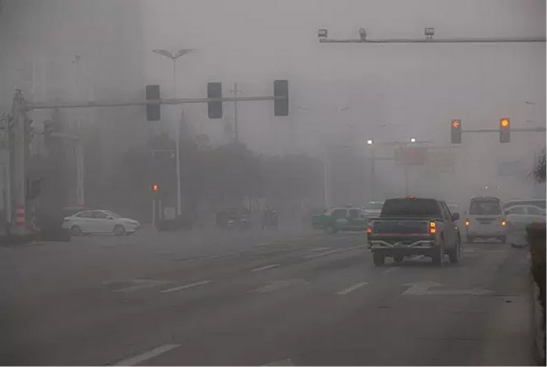car: (367, 195, 461, 266), (462, 196, 509, 244), (311, 203, 381, 235), (61, 209, 140, 237), (502, 205, 547, 228), (360, 200, 388, 222)
